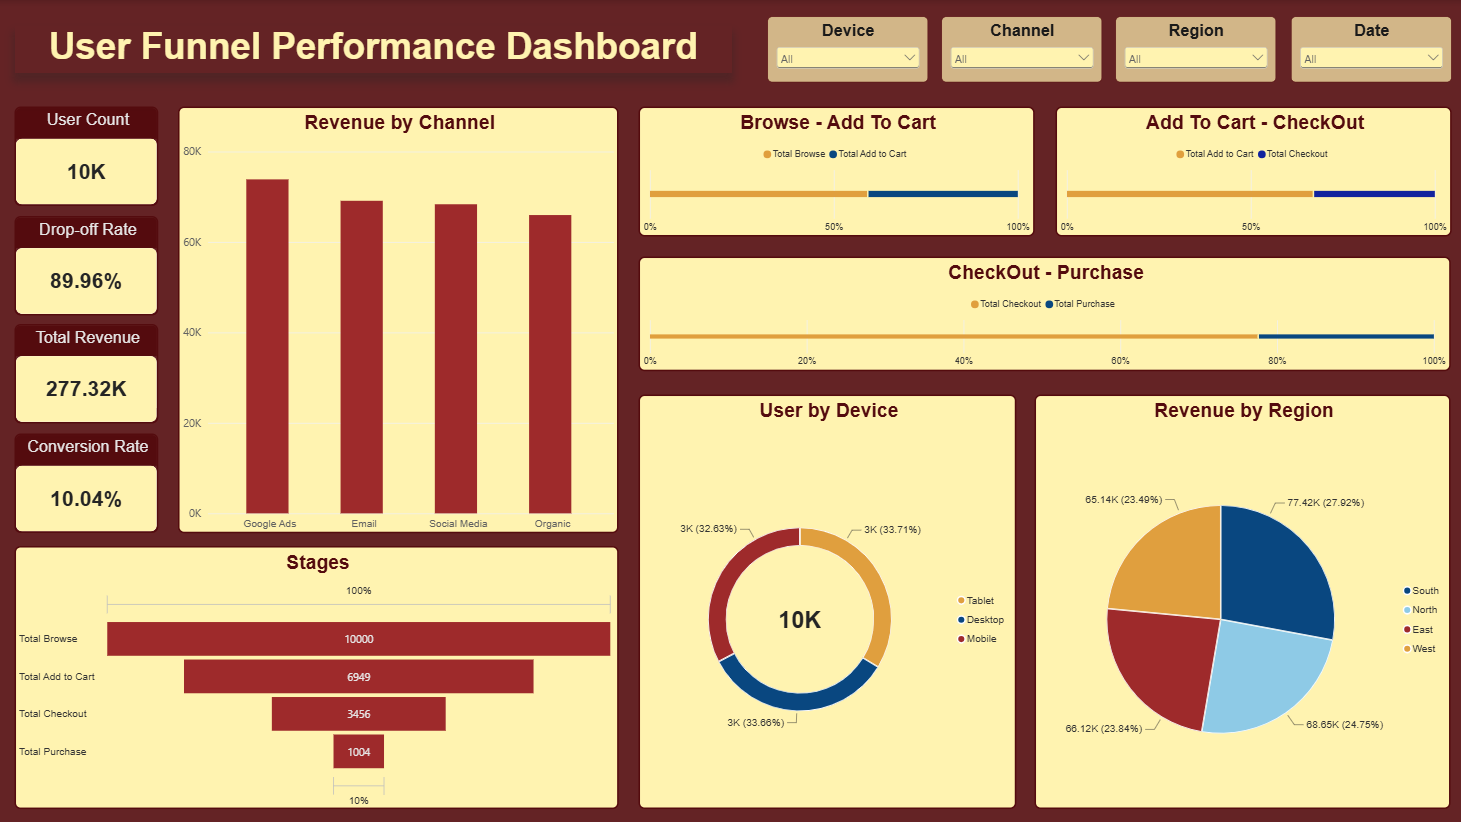

The dashboard page shown, as its layout file describes it:
{"tool":"powerbi","page":{"name":"User Funnel Performance","canvas":[1920,1080],"ordinal":0},"visuals":[{"type":"textbox","box":[22,34,938,62],"z":0},{"type":"slicer","title":"Date","fields":{"Values":["Funnel_Analysis_Data.Date.Variation.Date Hierarchy.Day"]},"box":[1690,22,210,86],"z":1000},{"type":"slicer","title":"Region","fields":{"Values":["Funnel_Analysis_Data.Region"]},"box":[1462,22,210,86],"z":2000},{"type":"slicer","title":"Channel","fields":{"Values":["Funnel_Analysis_Data.Channel"]},"box":[1234,22,210,86],"z":3000},{"type":"slicer","title":"Device","fields":{"Values":["Funnel_Analysis_Data.Device"]},"box":[1006,22,210,86],"z":4000},{"type":"cardVisual","title":"User Count","fields":{"Data":["Funnel_Analysis_Data.Total Count"]},"box":[22,140,188,130],"z":5000},{"type":"cardVisual","title":"Conversion Rate","fields":{"Data":["Funnel_Analysis_Data.Conversion Rate"]},"box":[22.2,567.8,188,130],"z":6000},{"type":"cardVisual","title":"Drop-off Rate","fields":{"Data":["Funnel_Analysis_Data.Drop off Rate"]},"box":[22.2,282.2,188,130],"z":7000},{"type":"cardVisual","title":"Total Revenue","fields":{"Data":["Sum(Funnel_Analysis_Data.Revenue)"]},"box":[22.2,424.4,188,130],"z":8000},{"type":"funnel","title":"Stages","fields":{"Y":["Funnel_Analysis_Data.Total Browse","Funnel_Analysis_Data.Total Add to Cart","Funnel_Analysis_Data.Total Checkout","Funnel_Analysis_Data.Total Purchase"]},"box":[22,714,790,344],"z":9000},{"type":"hundredPercentStackedBarChart","title":"Browse - Add To Cart","fields":{"Y":["Funnel_Analysis_Data.Total Browse","Funnel_Analysis_Data.Total Add to Cart"]},"box":[838,140,518,170],"z":10000},{"type":"hundredPercentStackedBarChart","title":"CheckOut - Purchase","fields":{"Y":["Funnel_Analysis_Data.Total Checkout","Funnel_Analysis_Data.Total Purchase"]},"box":[838,336,1062,150],"z":11000},{"type":"hundredPercentStackedBarChart","title":"Add To Cart - CheckOut","fields":{"Y":["Funnel_Analysis_Data.Total Add to Cart","Funnel_Analysis_Data.Total Checkout"]},"box":[1382,140,518,170],"z":12000},{"type":"clusteredColumnChart","title":"Revenue by Channel","fields":{"Category":["Funnel_Analysis_Data.Channel"],"Y":["Sum(Funnel_Analysis_Data.Revenue)"]},"box":[236,140,576,558],"z":13000},{"type":"donutChart","title":"User by Device","fields":{"Category":["Funnel_Analysis_Data.Device"],"Y":["Funnel_Analysis_Data.Total Count"]},"box":[838,516,494,542],"z":14000},{"type":"pieChart","title":"Revenue by Region","fields":{"Category":["Funnel_Analysis_Data.Region"],"Y":["Sum(Funnel_Analysis_Data.Revenue)"]},"box":[1356,516,544,542],"z":15000}]}

Visuals, with their boxes in screenshot pixels (x1, y1, x2, y2), scaled from the page's 1920x1080 canvas onto the 1461x822 screenshot:
textbox: <box>17,26,730,73</box>
"Date" slicer: <box>1286,17,1446,82</box>
"Region" slicer: <box>1112,17,1272,82</box>
"Channel" slicer: <box>939,17,1099,82</box>
"Device" slicer: <box>766,17,925,82</box>
"User Count" cardVisual: <box>17,107,160,206</box>
"Conversion Rate" cardVisual: <box>17,432,160,531</box>
"Drop-off Rate" cardVisual: <box>17,215,160,314</box>
"Total Revenue" cardVisual: <box>17,323,160,422</box>
"Stages" funnel: <box>17,543,618,805</box>
"Browse - Add To Cart" hundredPercentStackedBarChart: <box>638,107,1032,236</box>
"CheckOut - Purchase" hundredPercentStackedBarChart: <box>638,256,1446,370</box>
"Add To Cart - CheckOut" hundredPercentStackedBarChart: <box>1052,107,1446,236</box>
"Revenue by Channel" clusteredColumnChart: <box>180,107,618,531</box>
"User by Device" donutChart: <box>638,393,1014,805</box>
"Revenue by Region" pieChart: <box>1032,393,1446,805</box>
